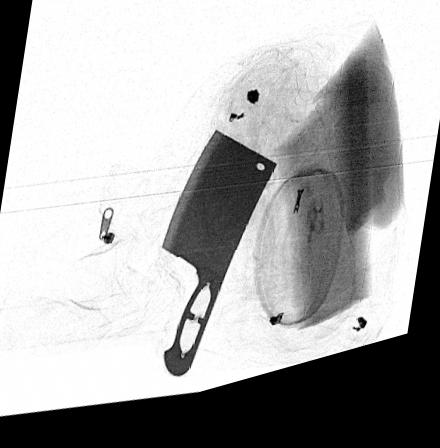Knife: (160, 140, 277, 387)
